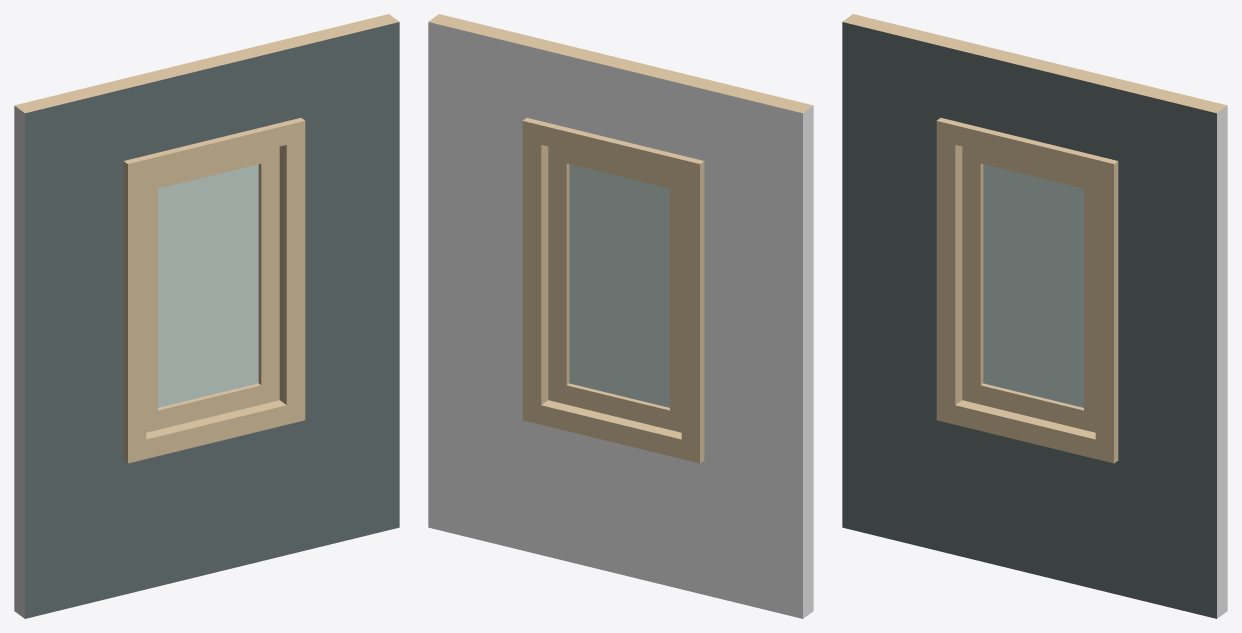
The model's file is window.glb.
3 renders of one model, left to right at view 1: azimuth 30°, elevation 25°; view 2: azimuth 150°, elevation 25°; view 3: azimuth 330°, elevation 25°, orthographic.
Parts seen in each view (by area): view 1: wallWindow, window; view 2: wallWindow, window; view 3: wallWindow, window.
Part boxes in pixels (<box>): wallWindow: <box>14,14,399,618</box>; window: <box>146,146,279,432</box>; wallWindow: <box>428,14,813,618</box>; window: <box>548,146,681,432</box>; wallWindow: <box>842,14,1227,618</box>; window: <box>962,146,1095,432</box>.
Bounding box in the file's own units: 10 × 12.9 × 0.891.
